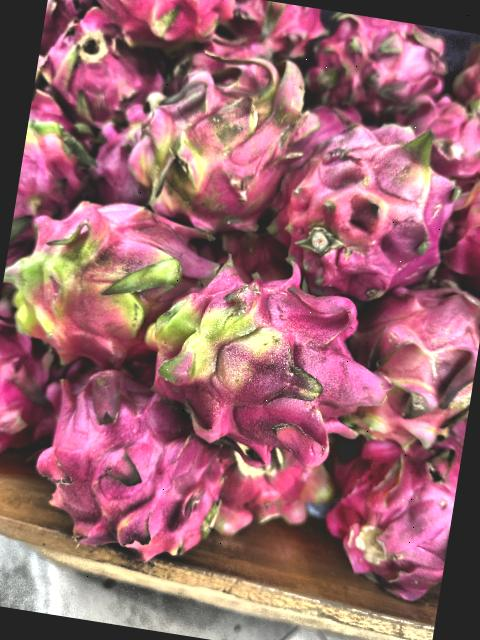buah-naga-belum-matang: (144, 253, 400, 468), (8, 188, 204, 368), (284, 111, 454, 296), (136, 41, 298, 222), (11, 119, 94, 249)
buah-naga-matang: (20, 353, 243, 573), (326, 427, 463, 602), (41, 5, 176, 124), (209, 422, 338, 546), (306, 9, 452, 114), (392, 87, 480, 193), (75, 0, 232, 58), (82, 101, 160, 200), (217, 0, 327, 67), (443, 152, 480, 292), (451, 32, 480, 146)
